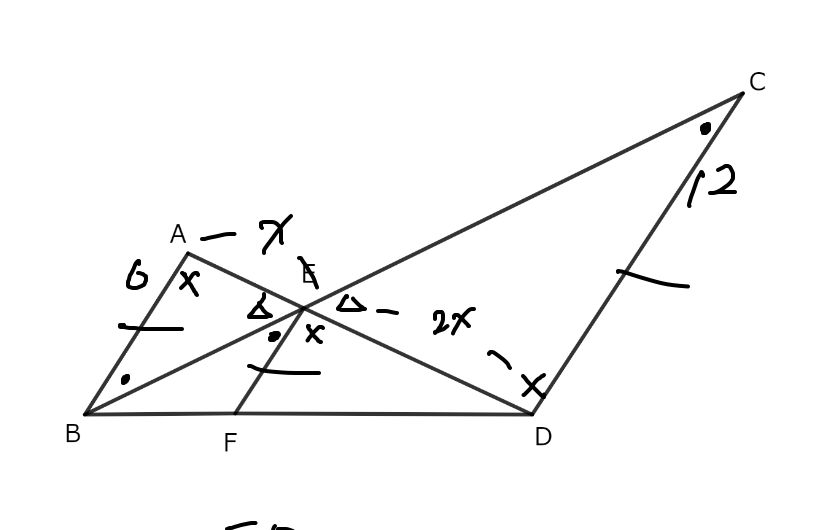Angle_Point: (112, 365, 135, 391), (695, 114, 717, 141), (263, 324, 283, 345)
Angle_x: (297, 314, 338, 348), (175, 266, 205, 297)
